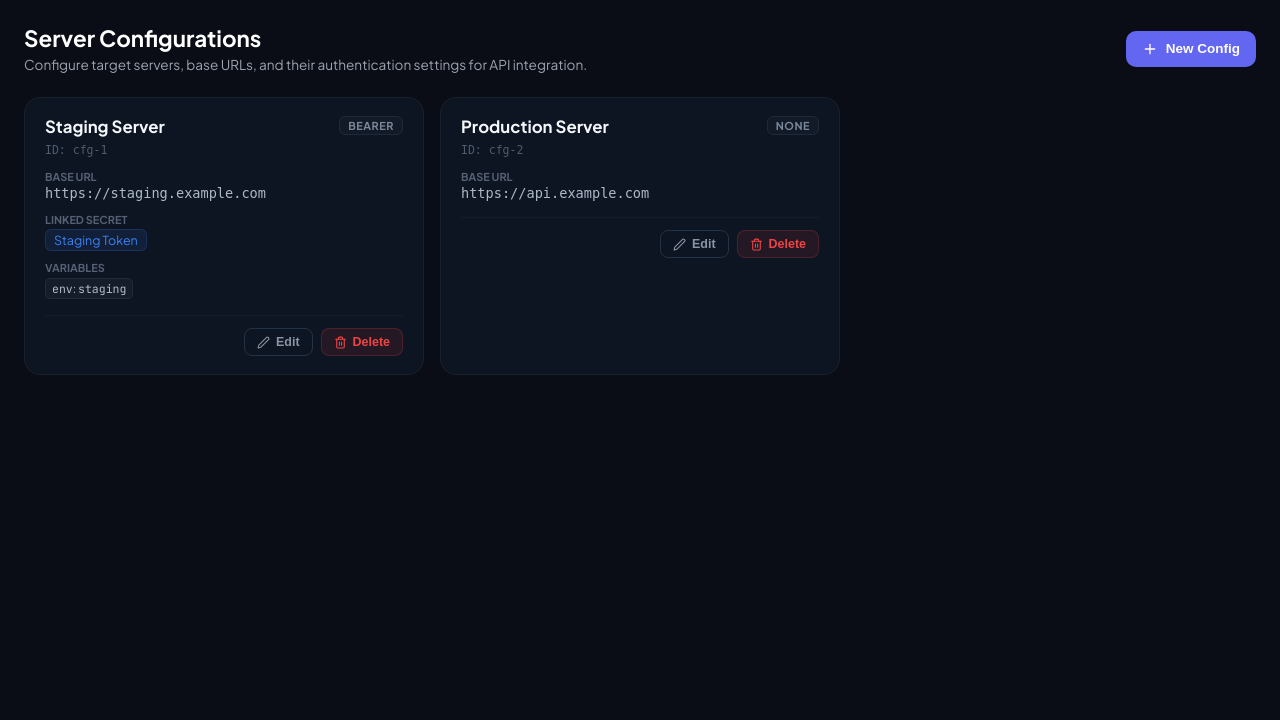
ServerConfigManager › create_success_shows_new_entry
The width and height of the screenshot is (1280, 720).
Expected: the heading "Staging Server" is shown, [45, 116, 165, 137]
Click the button "New Config".
click(1191, 48)  # box [1126, 30, 1256, 66]
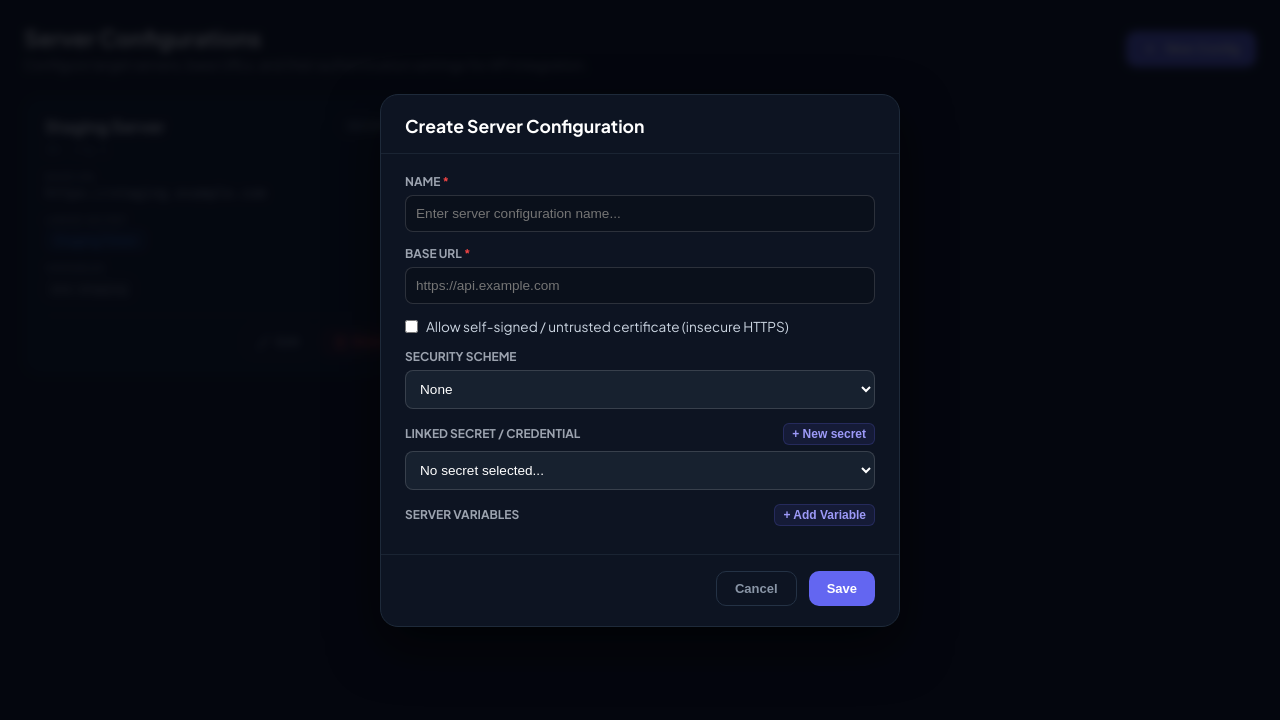
Type "Dev Server" into the field labelled "Name *".
click(640, 213); type("Dev Server")  # box [405, 194, 875, 232]
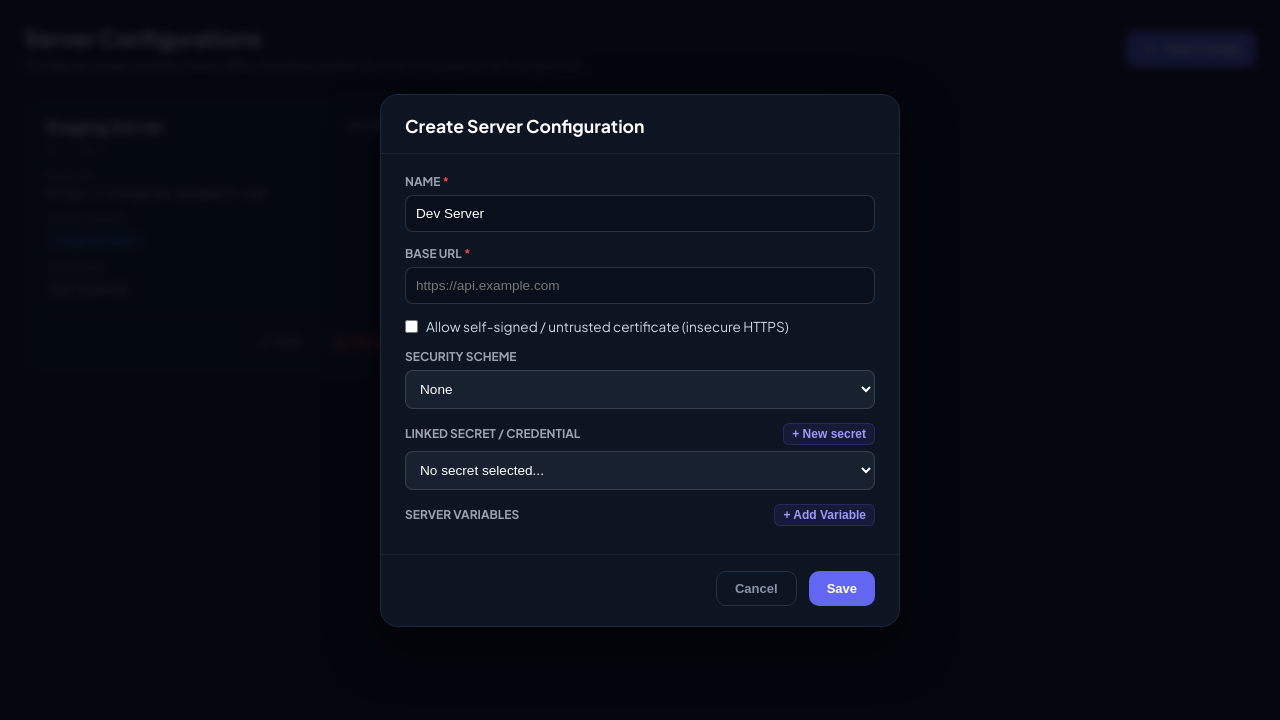
Type "https://dev.example.com" into the field labelled "Base URL *".
click(640, 285); type("https://dev.example.com")  # box [405, 266, 875, 304]
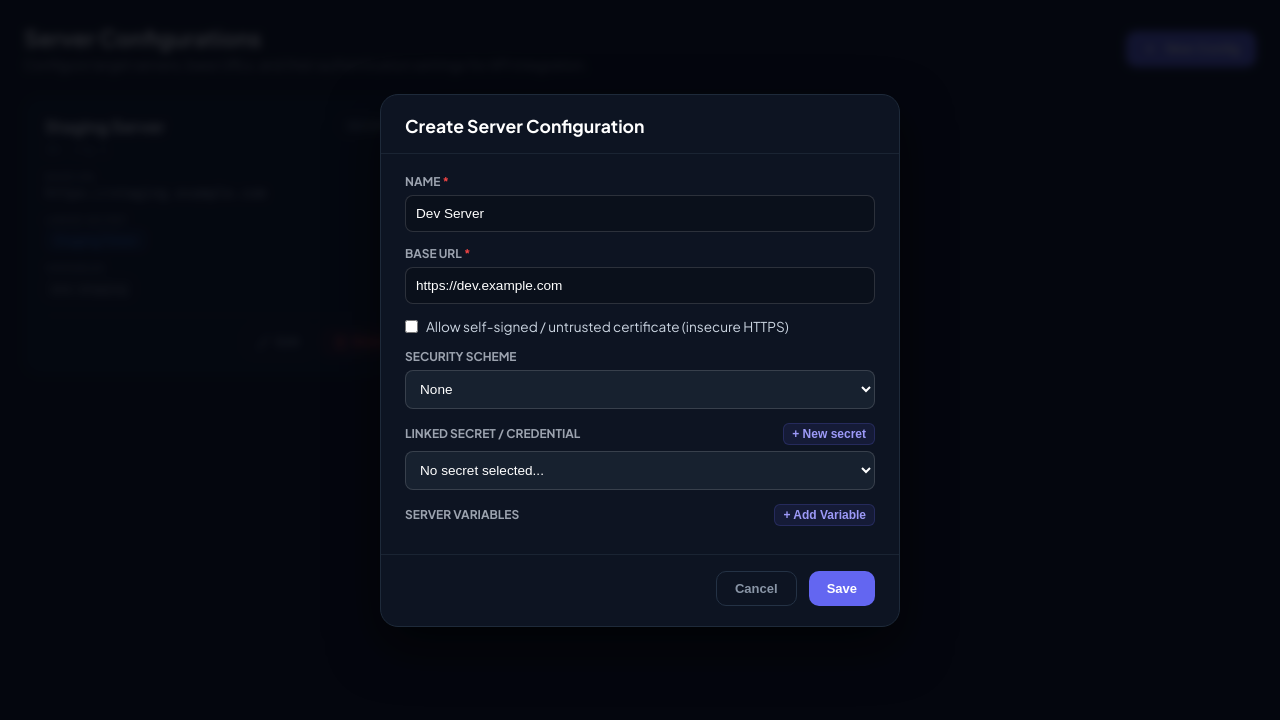
Click the button "Save".
click(842, 588)  # box [809, 570, 875, 606]
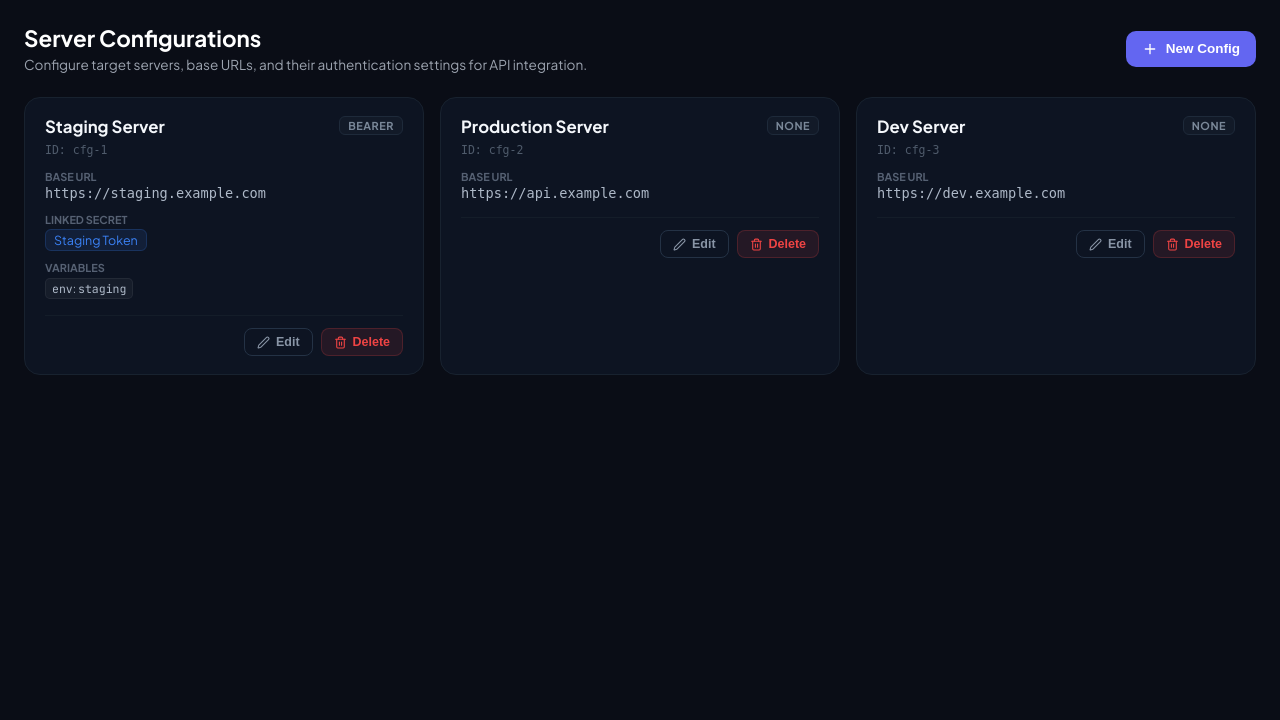
Expected: the heading "Dev Server" is shown, [877, 116, 965, 137]
